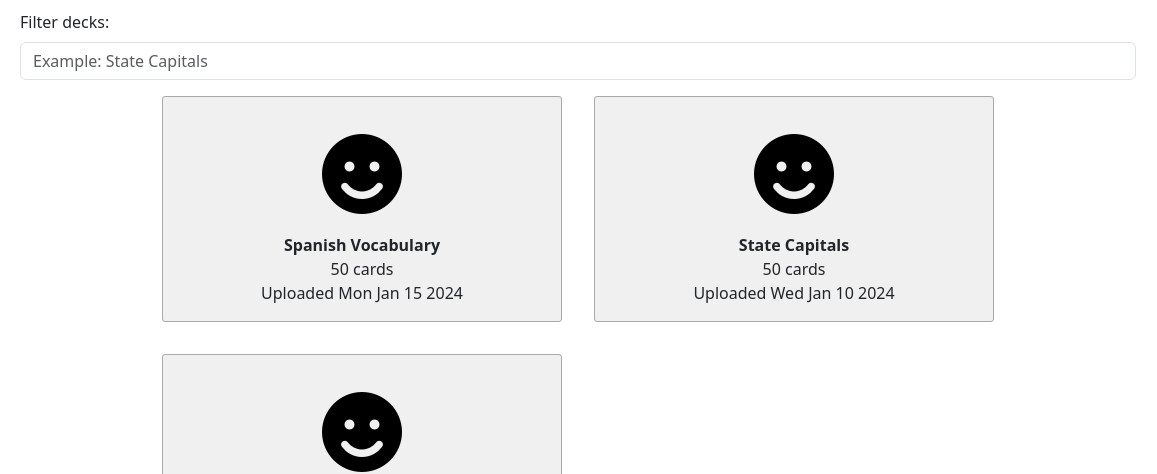
Test case: DeckList › filtering › shows no decks when filter matches nothing
(page scrolled)
Type "xyz" into the field with placeholder "Example: State Capitals" at (578, 61), box [20,42,1136,80]
(page scrolled)
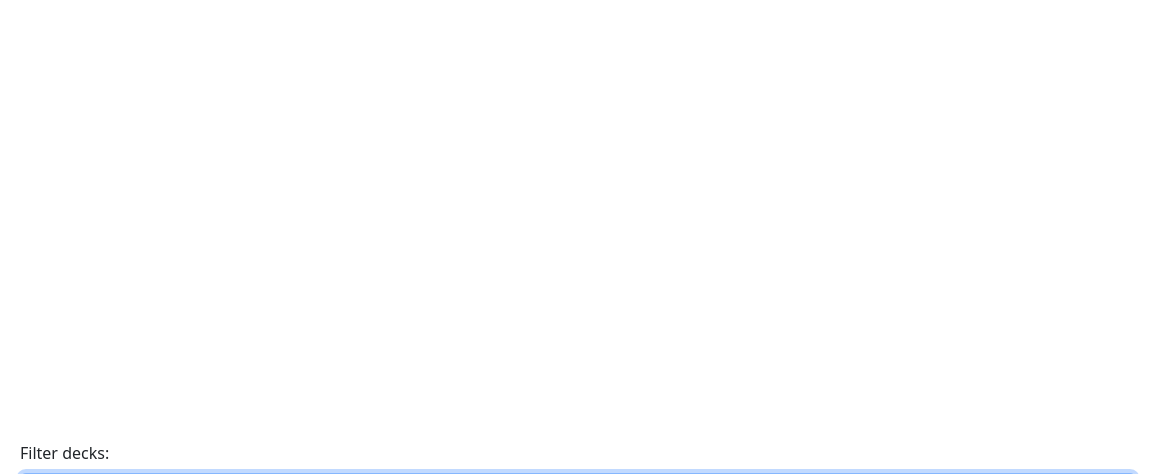
Expected: the text "Spanish Vocabulary" is gone
Expected: the text "State Capitals" is gone
